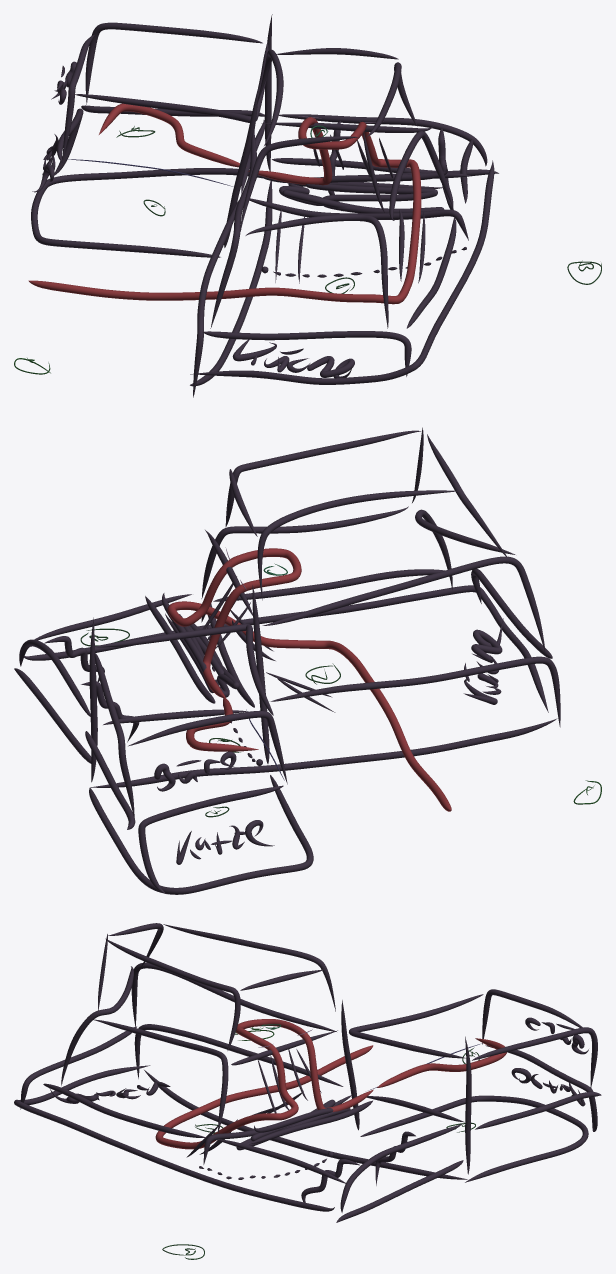
The picture shows the model from 3 angles, top to bottom: view 1: azimuth 30°, elevation 25°; view 2: azimuth 150°, elevation 25°; view 3: azimuth 270°, elevation 25°; orthographic projection. The views are drawn at different scales.
Visible parts, largest first — view 1: s.0143, s.0112, s.0028, s.0029, s.0062, s.0067, s.0093, s.0069, s.0051, s.0145, s.0026, s.0057 (+16 smaller); view 2: s.0143, s.0026, s.0028, s.0029, s.0092, s.0057, s.0069, s.0116, s.0094, s.0114, s.0033, s.0112 (+16 smaller); view 3: s.0143, s.0028, s.0029, s.0026, s.0069, s.0092, s.0057, s.0094, s.0114, s.0116, s.0145, s.0112 (+18 smaller).
Boxes of the visible parts, x1,y1,x2,y2 form: s.0143: (28,117,421,304); s.0112: (279,168,447,213); s.0028: (190,160,494,384); s.0029: (31,168,262,257); s.0062: (202,331,411,376); s.0067: (85,22,262,104); s.0093: (245,214,388,328); s.0069: (74,42,268,122); s.0051: (279,114,487,166); s.0145: (99,103,239,167); s.0026: (190,181,272,386); s.0057: (193,200,238,397); s.0143: (167,548,451,811); s.0026: (90,718,557,787); s.0028: (24,585,548,712); s.0029: (89,775,313,894); s.0092: (262,556,545,653); s.0057: (270,656,560,727); s.0069: (96,624,273,715); s.0116: (257,490,458,600); s.0094: (201,506,408,598); s.0114: (225,430,421,526); s.0033: (138,785,283,893); s.0112: (162,593,239,697); s.0143: (155,1019,373,1149); s.0028: (14,1065,334,1211); s.0029: (360,1095,588,1182); s.0026: (144,1070,467,1179); s.0069: (349,994,483,1058); s.0092: (131,962,336,1031); s.0057: (134,1024,343,1086); s.0094: (93,1019,228,1133); s.0114: (105,938,240,1050); s.0116: (163,924,335,1011); s.0145: (377,1038,506,1087); s.0112: (236,1099,350,1150).
Size of the model in its own units: 122 by 132 by 54.41.
